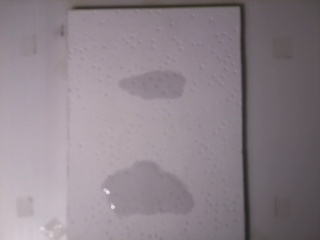Water_detected: (117, 172, 183, 214), (128, 69, 183, 96)
